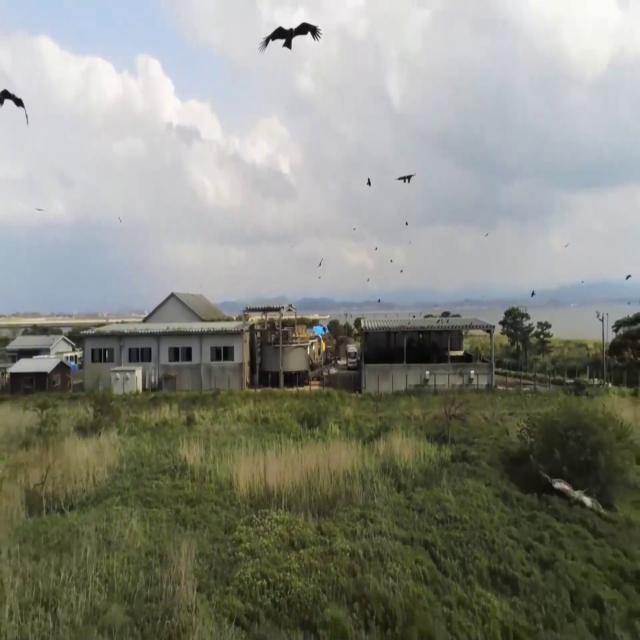bird: (258, 0, 322, 89), (0, 65, 29, 166), (395, 162, 416, 197), (625, 266, 632, 287)
